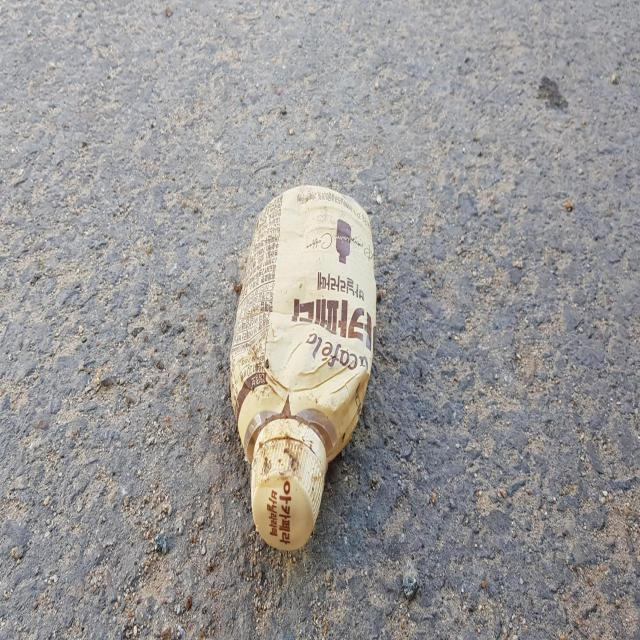plastic: (230, 185, 376, 551)
